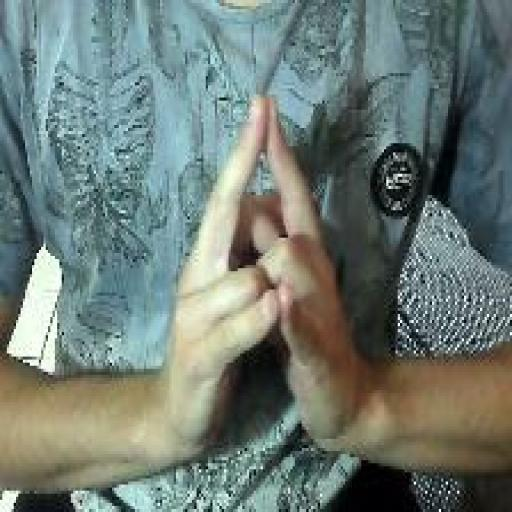Tori -bird-: (162, 92, 359, 464)
